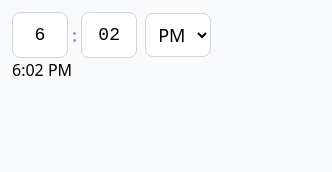
Test: TimeField — two-digit entry (Bug 1) › typing 27 into a field showing 02 yields 27, not 02
Click the field named "Test Minute" at (109, 35), box x1=81 y1=12 x2=137 y2=58
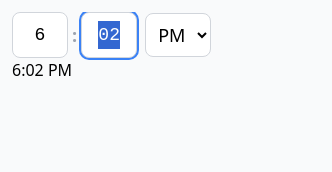
Type keys "27"
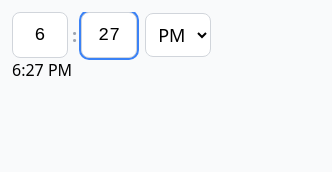
Expected: the field named "Test Minute" holds "27", x1=81 y1=12 x2=137 y2=58
Expected: the text with test id "readout" shows ":27", x1=12 y1=59 x2=72 y2=81
